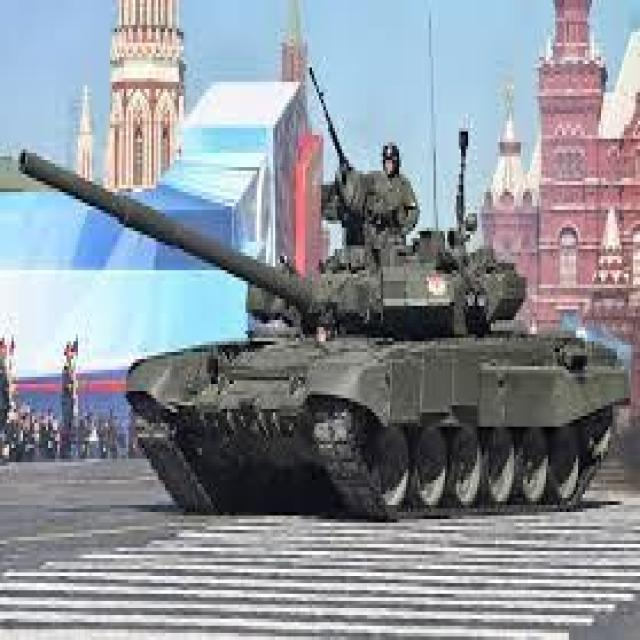Tanks: (91, 172, 628, 521)
